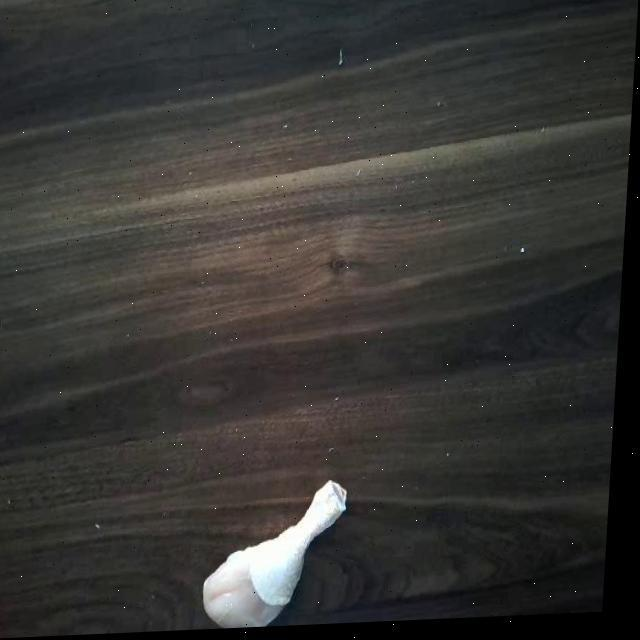leg: (197, 477, 360, 632)
